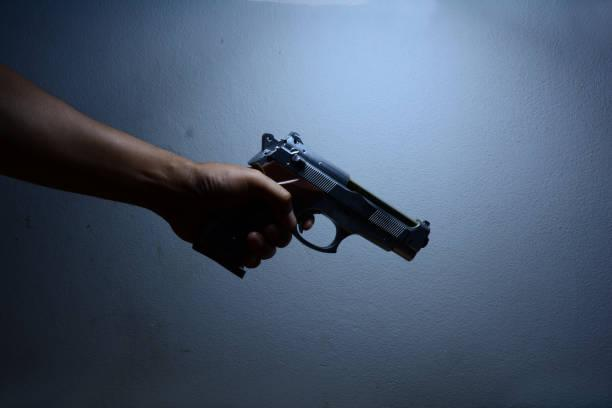weapon: (194, 122, 434, 281)
